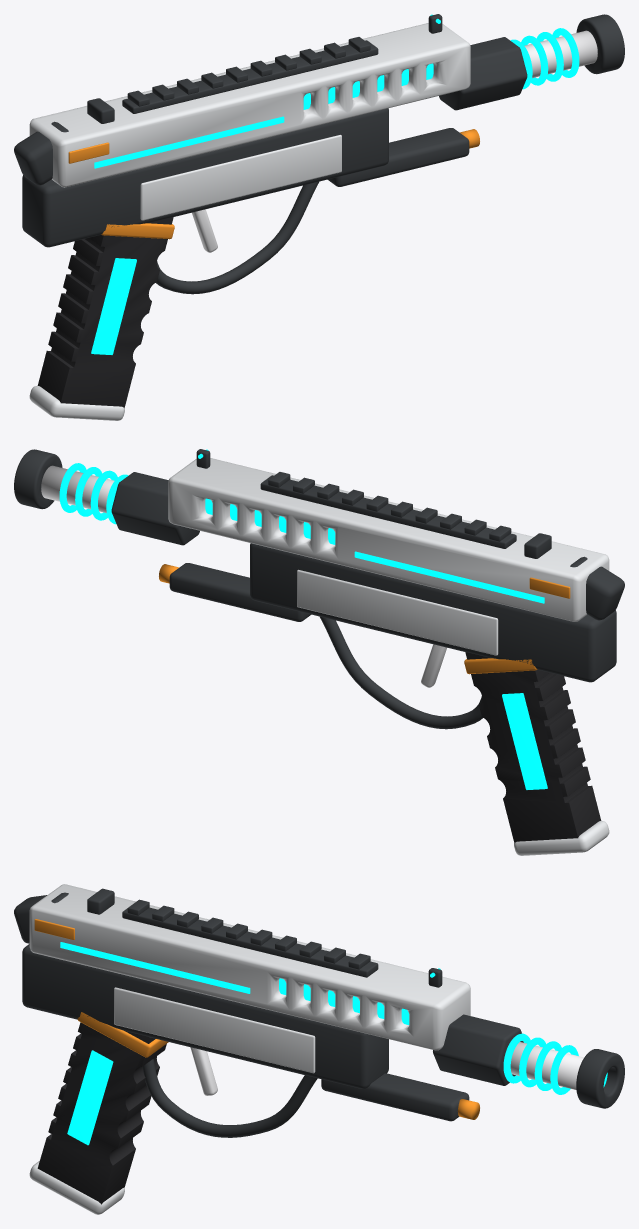
Rendered from futuristic_pistol.glb.
The picture shows the model from 3 angles, top to bottom: view 1: azimuth 30°, elevation 25°; view 2: azimuth 150°, elevation 25°; view 3: azimuth 330°, elevation 25°; orthographic projection.
Parts seen in each view (by area): view 1: TopShroud, Receiver, Grip, SidePanel-1, BarrelHousing, UnderRail, RailBase, TriggerGuard, GripCell-1, Muzzle, RearFin, Barrel (+5 smaller); view 2: TopShroud, Receiver, Grip, SidePanel1, BarrelHousing, UnderRail, RailBase, TriggerGuard, GripCell1, Muzzle, RearFin, Barrel (+5 smaller); view 3: TopShroud, Receiver, Grip, SidePanel-1, BarrelHousing, UnderRail, TriggerGuard, RailBase, Muzzle, GripCell-1, Barrel, GripCap (+11 smaller).
Part boxes in pixels (bbox=[...]): TopShroud: bbox=[29, 23, 470, 187]; Receiver: bbox=[22, 108, 388, 247]; Grip: bbox=[37, 217, 173, 407]; SidePanel-1: bbox=[140, 134, 341, 220]; BarrelHousing: bbox=[439, 37, 527, 110]; UnderRail: bbox=[327, 128, 469, 186]; RailBase: bbox=[122, 40, 378, 113]; TriggerGuard: bbox=[156, 181, 318, 294]; GripCell-1: bbox=[91, 258, 136, 354]; Muzzle: bbox=[576, 14, 624, 74]; RearFin: bbox=[14, 121, 68, 185]; Barrel: bbox=[524, 30, 597, 78]; TopShroud: bbox=[168, 458, 609, 621]; Receiver: bbox=[250, 543, 616, 682]; Grip: bbox=[465, 652, 601, 842]; SidePanel1: bbox=[297, 569, 498, 655]; BarrelHousing: bbox=[111, 472, 199, 545]; UnderRail: bbox=[169, 563, 311, 621]; RailBase: bbox=[260, 475, 516, 548]; TriggerGuard: bbox=[320, 616, 482, 729]; GripCell1: bbox=[502, 693, 547, 789]; Muzzle: bbox=[14, 449, 62, 509]; RearFin: bbox=[570, 556, 624, 620]; Barrel: bbox=[41, 465, 114, 513]; TopShroud: bbox=[29, 884, 470, 1050]; Receiver: bbox=[22, 944, 388, 1088]; Grip: bbox=[37, 1022, 166, 1204]; SidePanel-1: bbox=[114, 987, 315, 1073]; BarrelHousing: bbox=[433, 1014, 523, 1085]; UnderRail: bbox=[321, 1073, 469, 1121]; TriggerGuard: bbox=[142, 1059, 317, 1137]; RailBase: bbox=[122, 907, 378, 977]; Muzzle: bbox=[576, 1049, 624, 1108]; GripCell-1: bbox=[67, 1050, 113, 1145]; Barrel: bbox=[510, 1042, 583, 1089]; GripCap: bbox=[29, 1161, 124, 1214].
Bounding box in the file's own units: 2.65 × 1.36 × 0.274.
